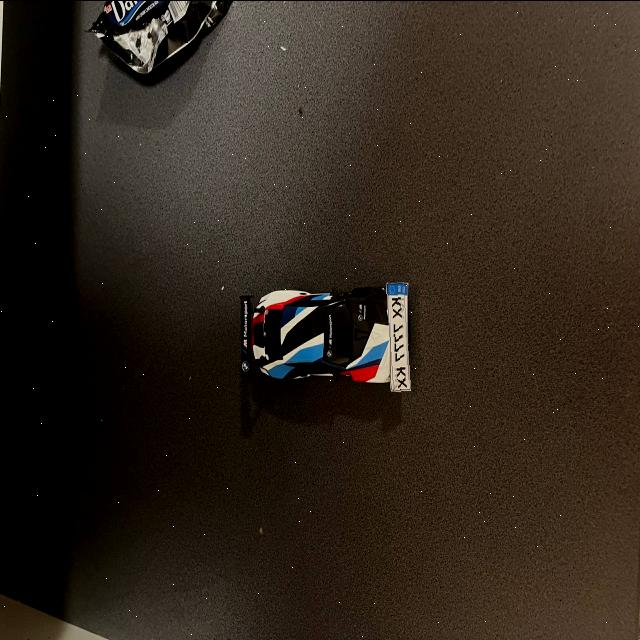KX 7777 KX: (388, 281, 410, 392)
